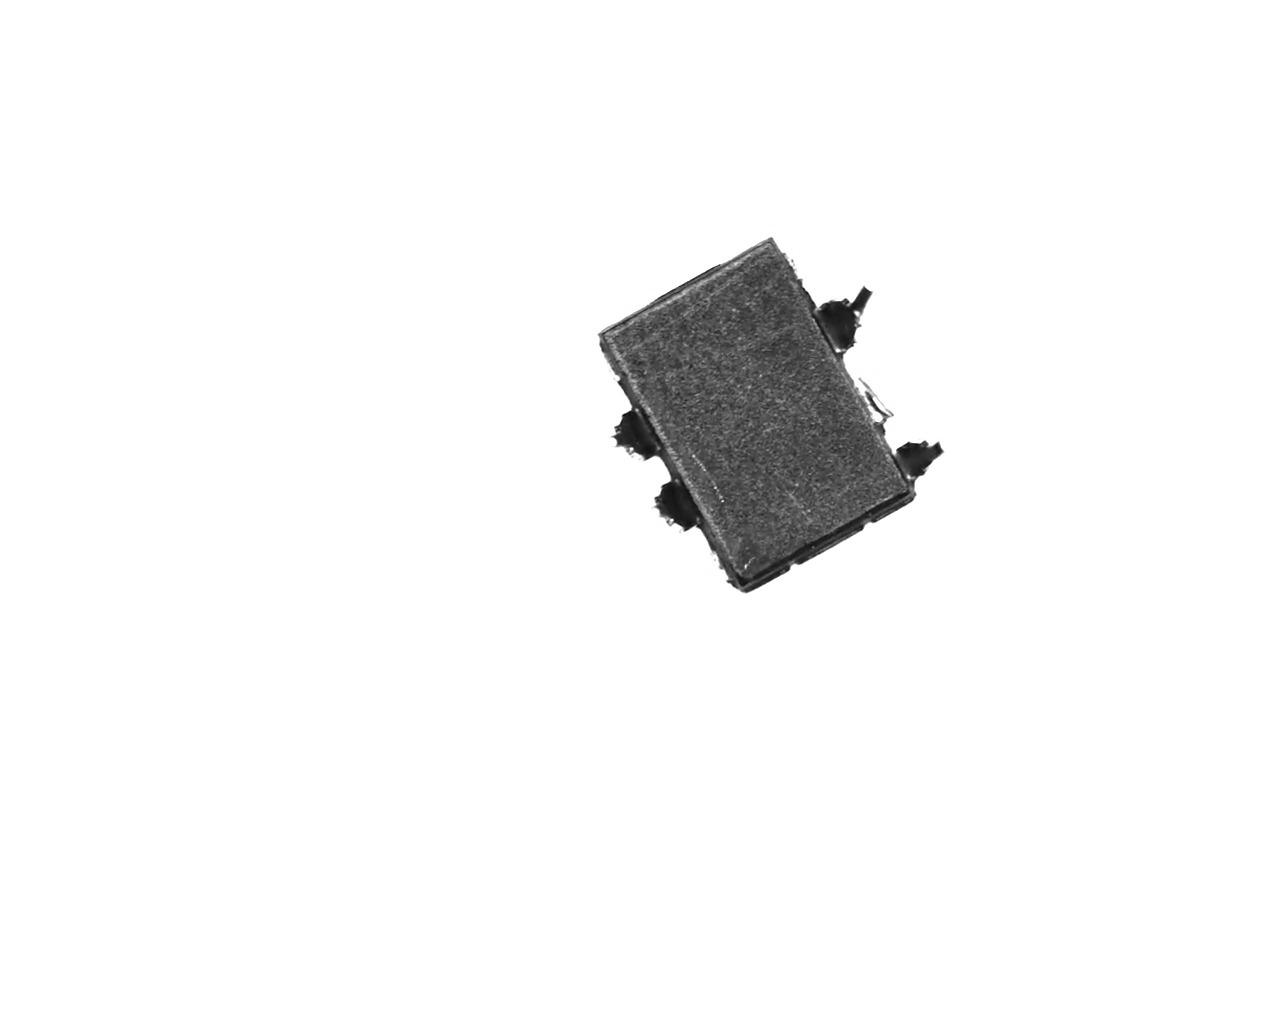brokenLeg: (807, 279, 874, 358), (603, 400, 666, 466), (646, 470, 700, 534), (888, 433, 944, 489)
missingLeg: (852, 367, 893, 428), (587, 344, 633, 398), (700, 537, 739, 587), (772, 248, 810, 293)
